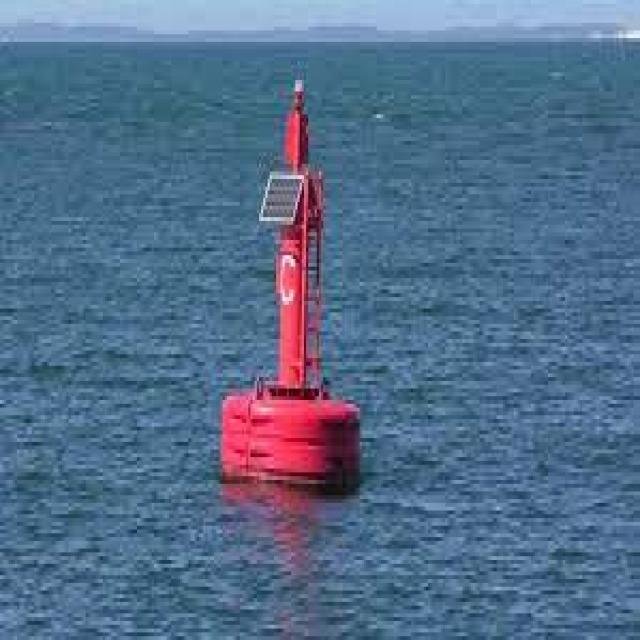2.1 lateral mark -P-: (219, 57, 372, 501)
